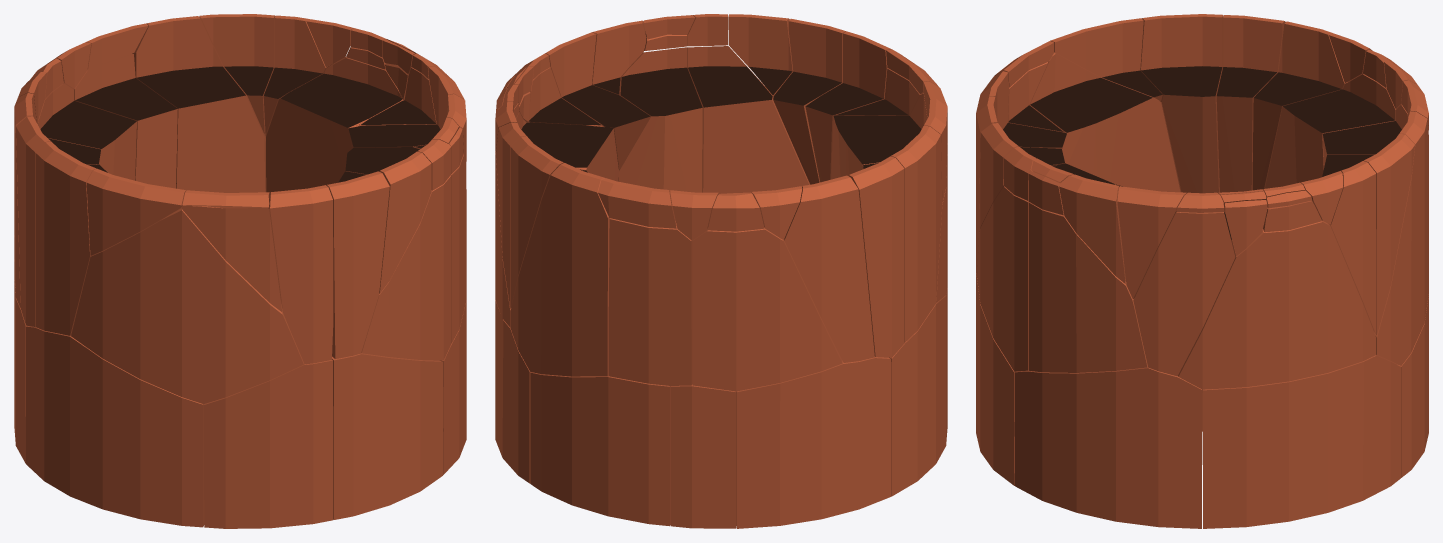
Rendered from potplant_pot_kaputt.glb.
3 renders of one model, left to right at view 1: azimuth 30°, elevation 25°; view 2: azimuth 150°, elevation 25°; view 3: azimuth 270°, elevation 25°, orthographic.
Visible parts, largest first — view 1: Cylinder_cell.016, Cylinder_cell.033, Cylinder_cell.017, Cylinder_cell.014, Cylinder_cell.031, Cylinder_cell.012, Cylinder_cell.015, Cylinder_cell.043, Cylinder_cell.008, Cylinder_cell.049, Cylinder_cell.004, Cylinder_cell.032 (+22 smaller); view 2: Cylinder_cell.010, Cylinder_cell.005, Cylinder_cell.020, Cylinder_cell.031, Cylinder_cell.004, Cylinder_cell.015, Cylinder_cell.034, Cylinder_cell.021, Cylinder_cell.006, Cylinder_cell.033, Cylinder_cell.027, Cylinder_cell.008 (+21 smaller); view 3: Cylinder_cell.025, Cylinder_cell.022, Cylinder_cell.012, Cylinder_cell.021, Cylinder_cell.016, Cylinder_cell.008, Cylinder_cell.038, Cylinder_cell.031, Cylinder_cell.015, Cylinder_cell.027, Cylinder_cell.020, Cylinder_cell.034 (+24 smaller).
Part boxes in pixels (x1,y1,x2,y2): Cylinder_cell.016: (71, 205, 303, 404); Cylinder_cell.033: (26, 326, 204, 527); Cylinder_cell.017: (204, 360, 333, 528); Cylinder_cell.014: (332, 353, 443, 519); Cylinder_cell.031: (132, 16, 266, 192); Cylinder_cell.012: (266, 56, 403, 208); Cylinder_cell.015: (338, 171, 451, 360); Cylinder_cell.043: (269, 185, 333, 364); Cylinder_cell.008: (35, 141, 96, 335); Cylinder_cell.049: (327, 171, 389, 358); Cylinder_cell.004: (73, 53, 177, 188); Cylinder_cell.032: (181, 206, 282, 311); Cylinder_cell.010: (735, 357, 891, 528); Cylinder_cell.005: (530, 372, 670, 526); Cylinder_cell.020: (692, 227, 842, 391); Cylinder_cell.031: (510, 163, 609, 376); Cylinder_cell.004: (608, 218, 692, 385); Cylinder_cell.015: (687, 46, 809, 194); Cylinder_cell.034: (784, 175, 874, 362); Cylinder_cell.021: (618, 47, 702, 194); Cylinder_cell.006: (670, 384, 735, 528); Cylinder_cell.033: (889, 288, 947, 496); Cylinder_cell.027: (849, 156, 904, 357); Cylinder_cell.008: (891, 126, 942, 342); Cylinder_cell.025: (1203, 355, 1400, 528); Cylinder_cell.022: (1014, 367, 1202, 528); Cylinder_cell.012: (1178, 212, 1376, 389); Cylinder_cell.021: (1028, 184, 1147, 372); Cylinder_cell.016: (1029, 53, 1180, 192); Cylinder_cell.008: (1140, 14, 1223, 193); Cylinder_cell.038: (1133, 212, 1235, 376); Cylinder_cell.031: (1322, 111, 1428, 365); Cylinder_cell.015: (977, 163, 1115, 371); Cylinder_cell.027: (1216, 15, 1285, 192); Cylinder_cell.020: (1265, 74, 1395, 188); Cylinder_cell.034: (1252, 21, 1347, 190).
Size of the model in its own units: 1 by 0.8 by 1.
